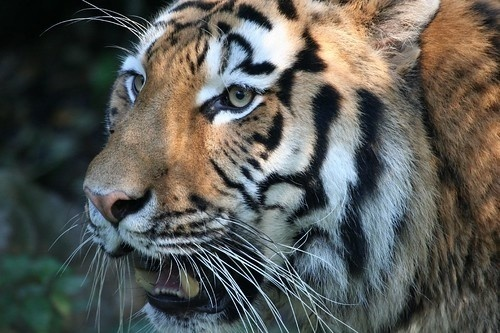tigre: (79, 1, 500, 333)
